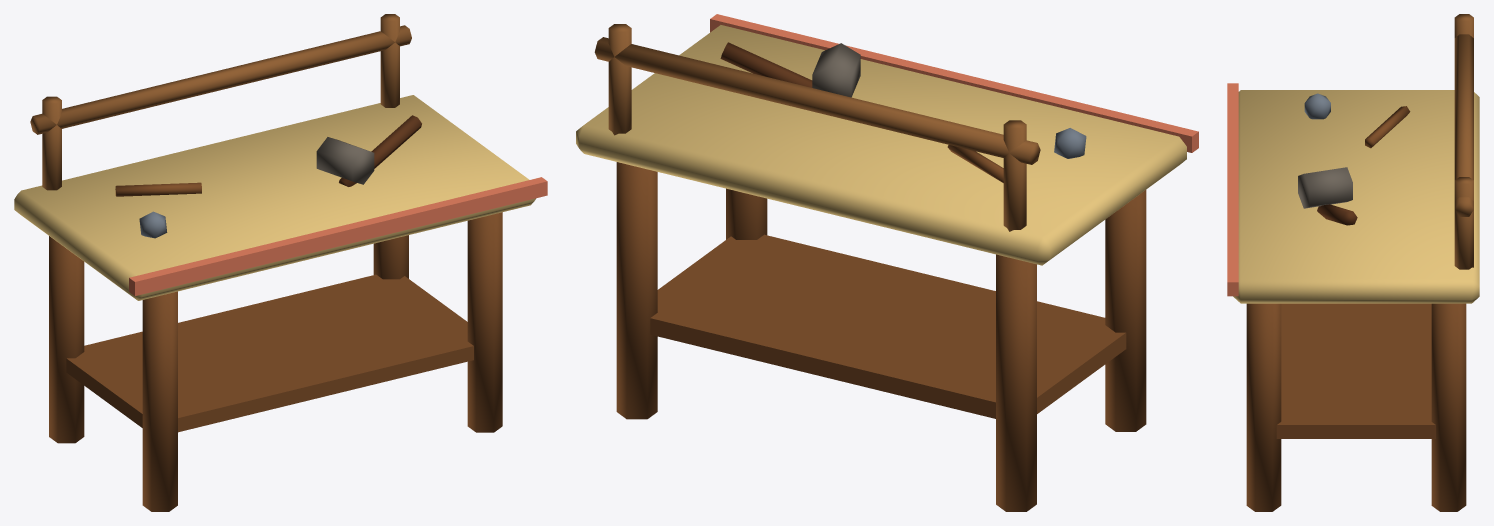
The model's file is bench.glb.
3 views of the same model, side by side, from view 1: azimuth 30°, elevation 25°; view 2: azimuth 150°, elevation 25°; view 3: azimuth 270°, elevation 25° (orthographic). The views are drawn at different scales.
Parts seen in each view (by area): view 1: wb_top, wb_shelf, wb_trim, wb_leg-1-1, wb_leg1-1, wb_rail, wb_leg-11, wb_head, wb_post-1, wb_post1, wb_leg11, wb_handle (+2 smaller); view 2: wb_top, wb_shelf, wb_leg11, wb_leg-11, wb_rail, wb_leg-1-1, wb_trim, wb_post-1, wb_post1, wb_head, wb_leg1-1, wb_handle (+2 smaller); view 3: wb_top, wb_shelf, wb_leg11, wb_leg1-1, wb_rail, wb_trim, wb_head, wb_post1, wb_stick, wb_peb, wb_handle, wb_post-1.
Part boxes in pixels (<box>): wb_top: <box>14,95,535,300</box>; wb_shelf: <box>66,274,473,432</box>; wb_trim: <box>129,177,547,295</box>; wb_leg-1-1: <box>142,291,177,511</box>; wb_leg1-1: <box>467,212,502,432</box>; wb_rail: <box>30,25,411,134</box>; wb_leg-11: <box>49,236,84,443</box>; wb_head: <box>316,137,374,184</box>; wb_post-1: <box>42,96,61,190</box>; wb_post1: <box>380,14,399,107</box>; wb_leg11: <box>373,235,408,279</box>; wb_handle: <box>339,115,421,186</box>; wb_top: <box>576,25,1186,265</box>; wb_shelf: <box>650,234,1126,418</box>; wb_leg11: <box>616,162,657,419</box>; wb_leg-11: <box>996,254,1036,511</box>; wb_rail: <box>594,37,1040,164</box>; wb_leg-1-1: <box>1105,190,1146,431</box>; wb_trim: <box>710,14,1198,152</box>; wb_post-1: <box>1003,120,1026,231</box>; wb_post1: <box>608,24,631,135</box>; wb_head: <box>812,43,860,97</box>; wb_leg1-1: <box>726,188,767,239</box>; wb_handle: <box>720,42,812,87</box>; wb_top: <box>1233,90,1479,303</box>; wb_shelf: <box>1276,303,1435,438</box>; wb_leg11: <box>1431,303,1466,511</box>; wb_leg1-1: <box>1246,303,1281,511</box>; wb_rail: <box>1454,34,1473,216</box>; wb_trim: <box>1227,83,1238,296</box>; wb_head: <box>1298,167,1352,208</box>; wb_post1: <box>1454,177,1473,269</box>; wb_stick: <box>1365,106,1410,148</box>; wb_peb: <box>1304,93,1330,119</box>; wb_handle: <box>1317,204,1357,225</box>; wb_post-1: <box>1454,14,1473,37</box>.
Bounding box in the file's own units: 1.22 × 0.94 × 0.655.
